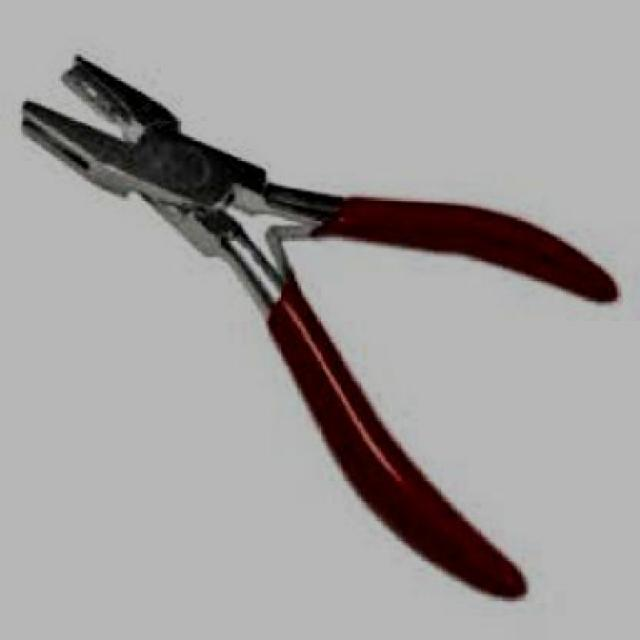pliers: (20, 40, 631, 622)
